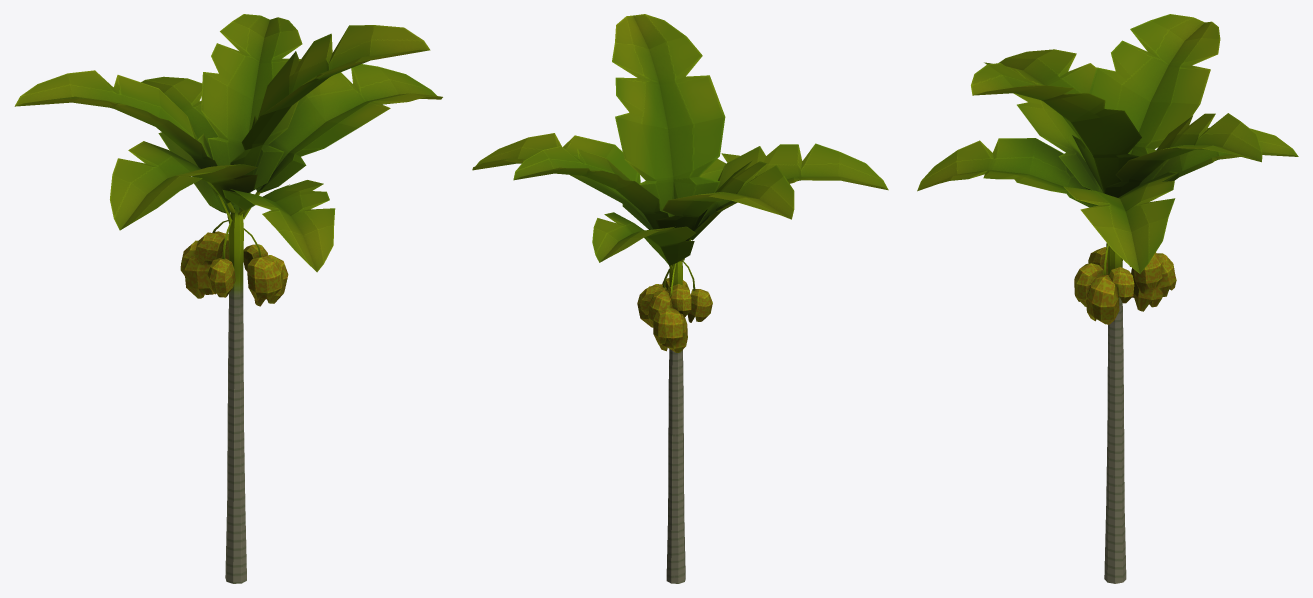
Rendered from bf8ad239-46f9-46c1-bb76-c8c6bbf91493.glb.
The picture shows the model from 3 angles, left to right: view 1: azimuth 30°, elevation 25°; view 2: azimuth 150°, elevation 25°; view 3: azimuth 270°, elevation 25°; orthographic projection. The views are drawn at different scales.
Parts seen in each view (by area): view 1: Node; view 2: Node; view 3: Node.
Boxes of the visible parts, x1=… form: Node: x1=14, y1=14, x2=442, y2=583; Node: x1=472, y1=14, x2=888, y2=583; Node: x1=917, y1=14, x2=1298, y2=583.
Size of the model in its own units: 14.61 by 19.76 by 12.47.
Materials: 1 (1 with a texture image).
